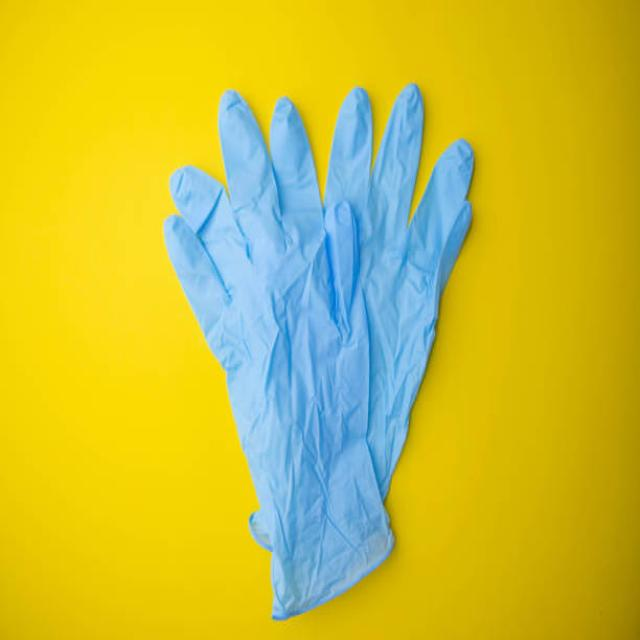masker: (164, 84, 480, 615)
